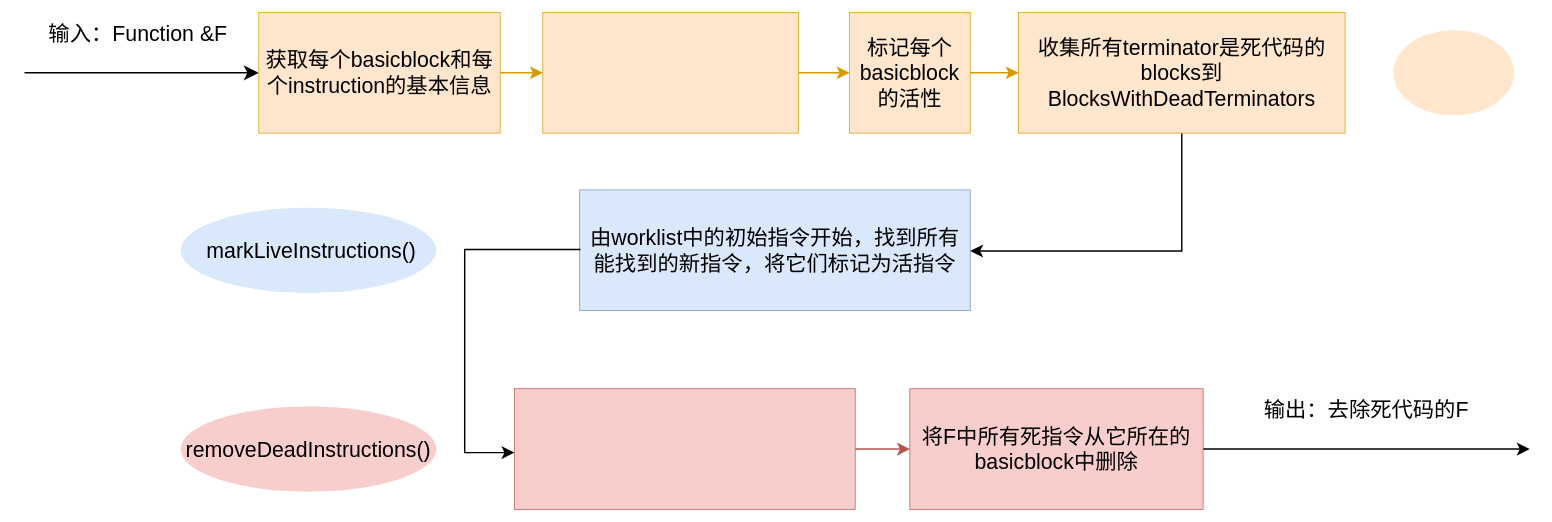
The diagram is 1552 pixels wide and 522 high, and some of its shapes have lost their labels. The shapes that lost their labels are listed below. From the top down, each one's centre as x and y in pixels, then its label:
At (670,72): "将永远是活的的那些指令标记为活指令，并将它们加入worklist".
At (1453,72): "initialize()".
At (684,448): "将所有死block周围的控制流更新".
